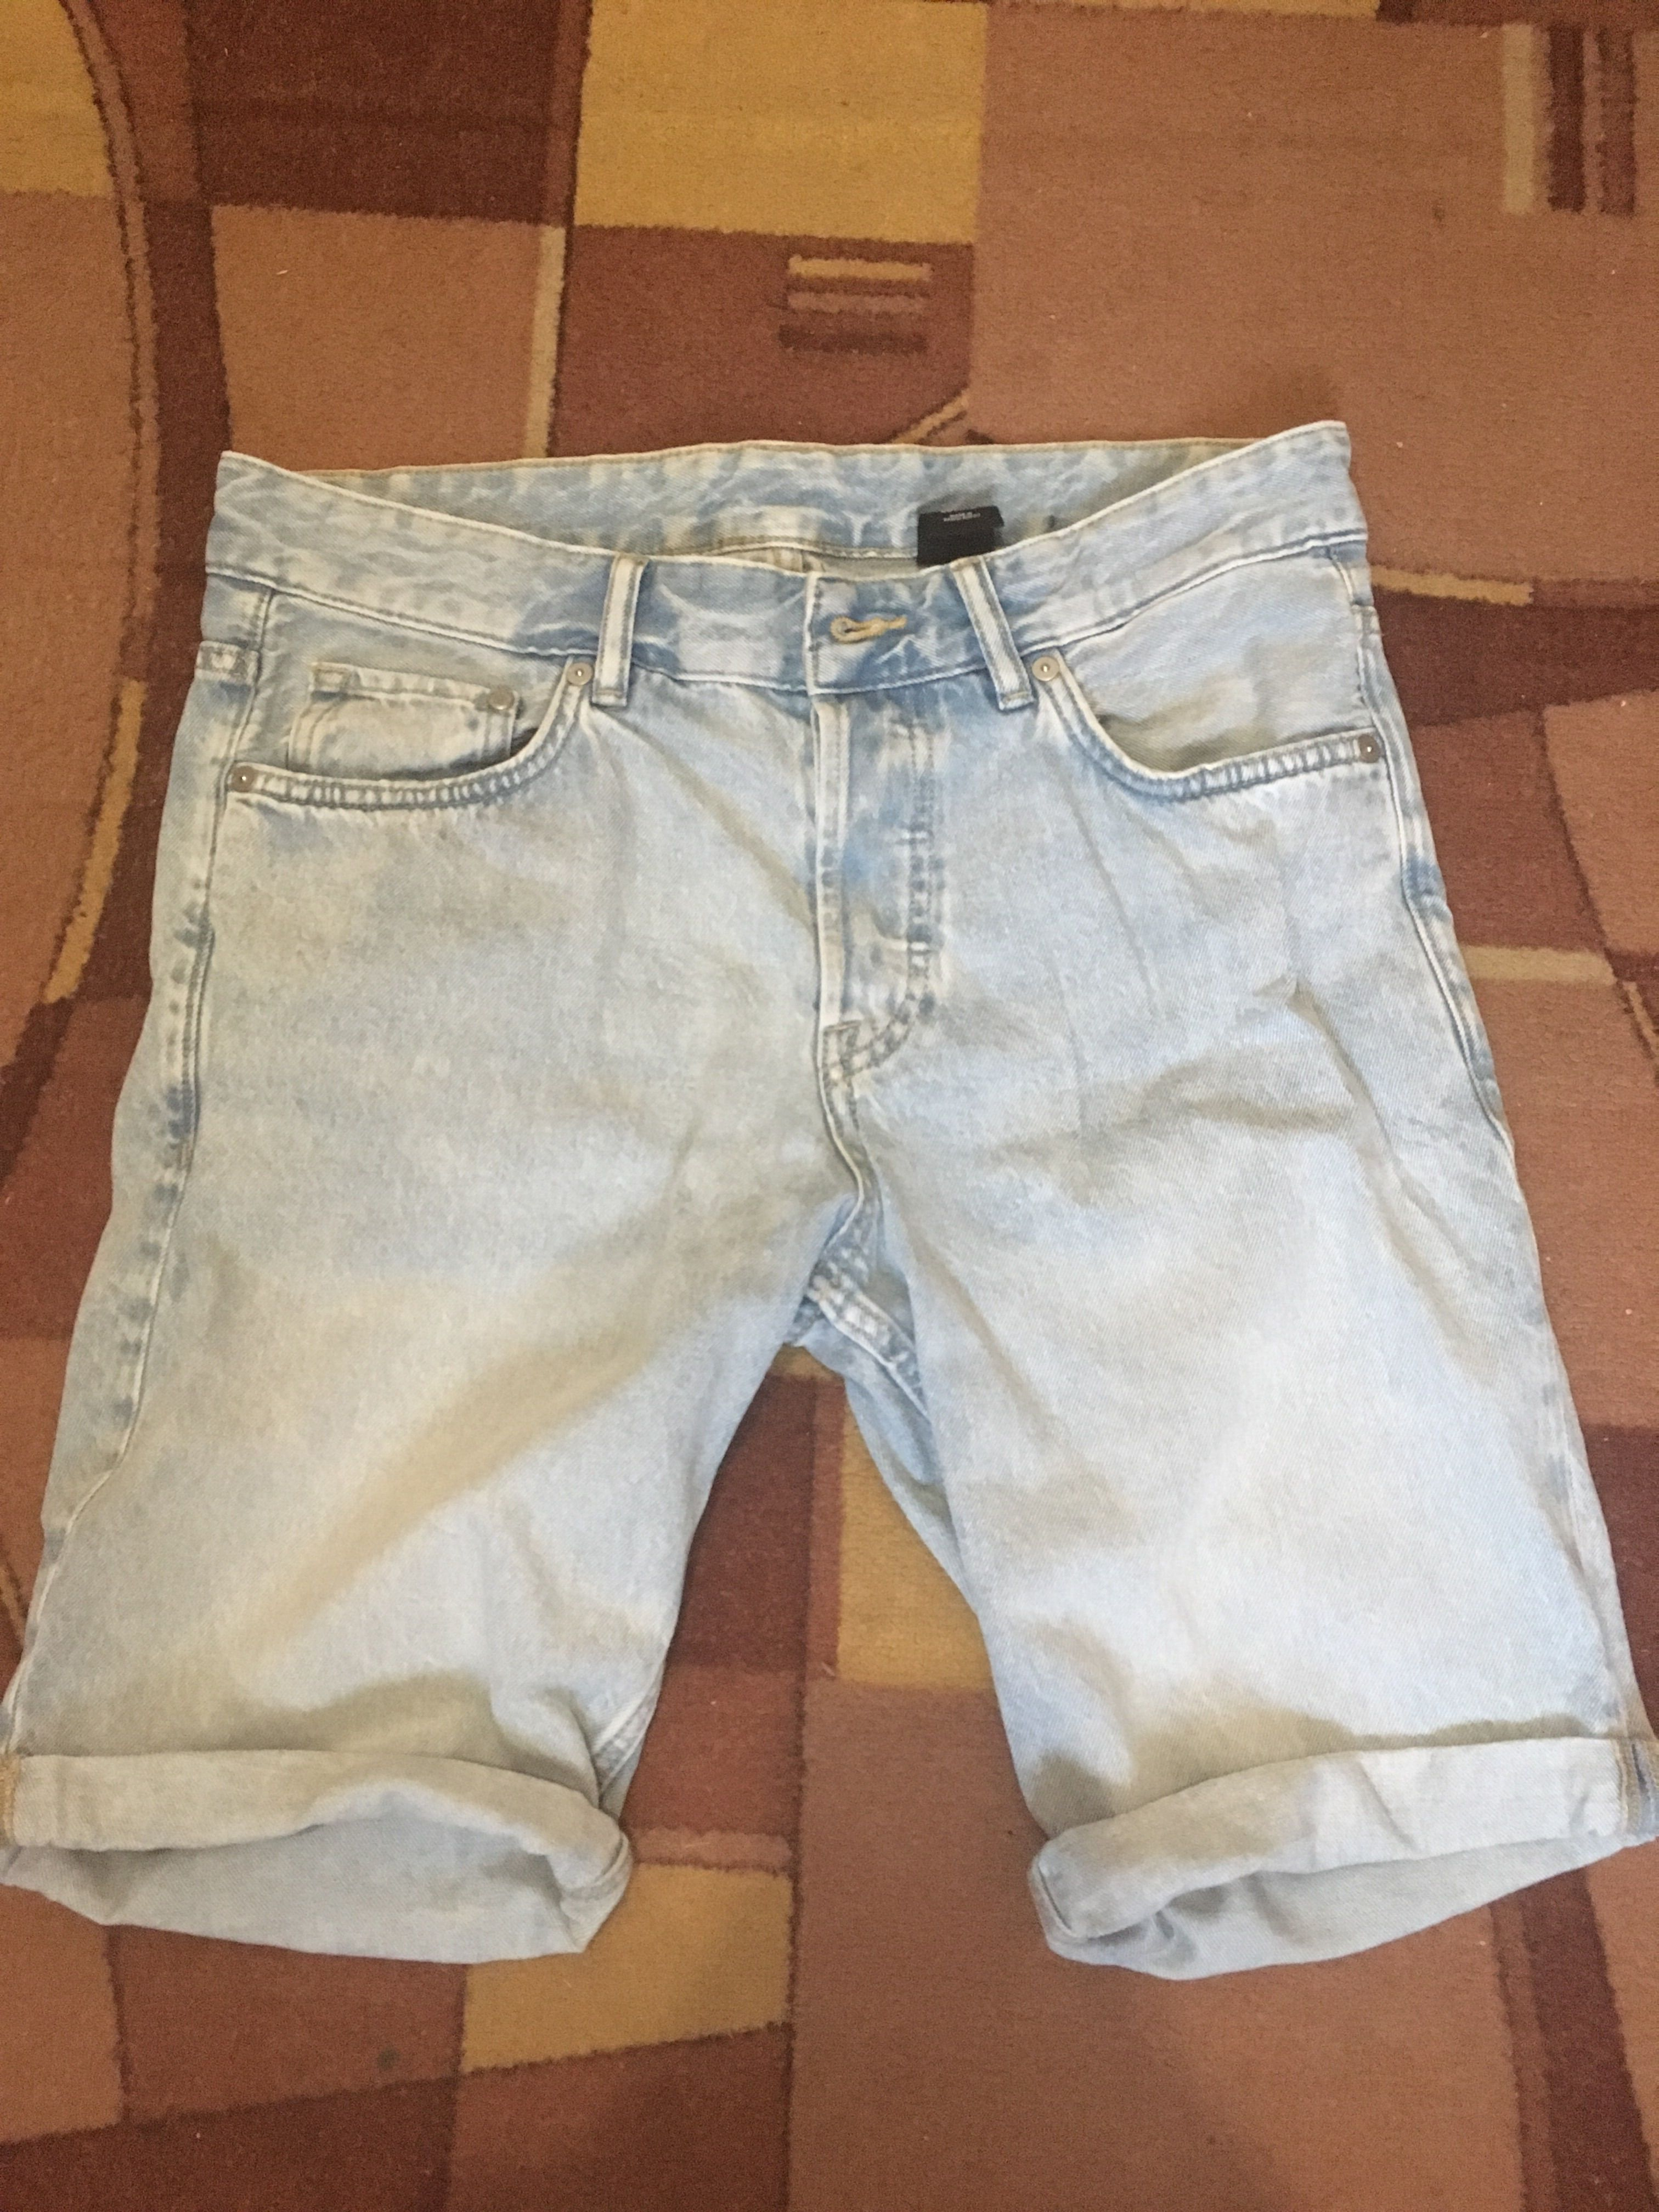clothes: (0, 402, 1628, 1959)
